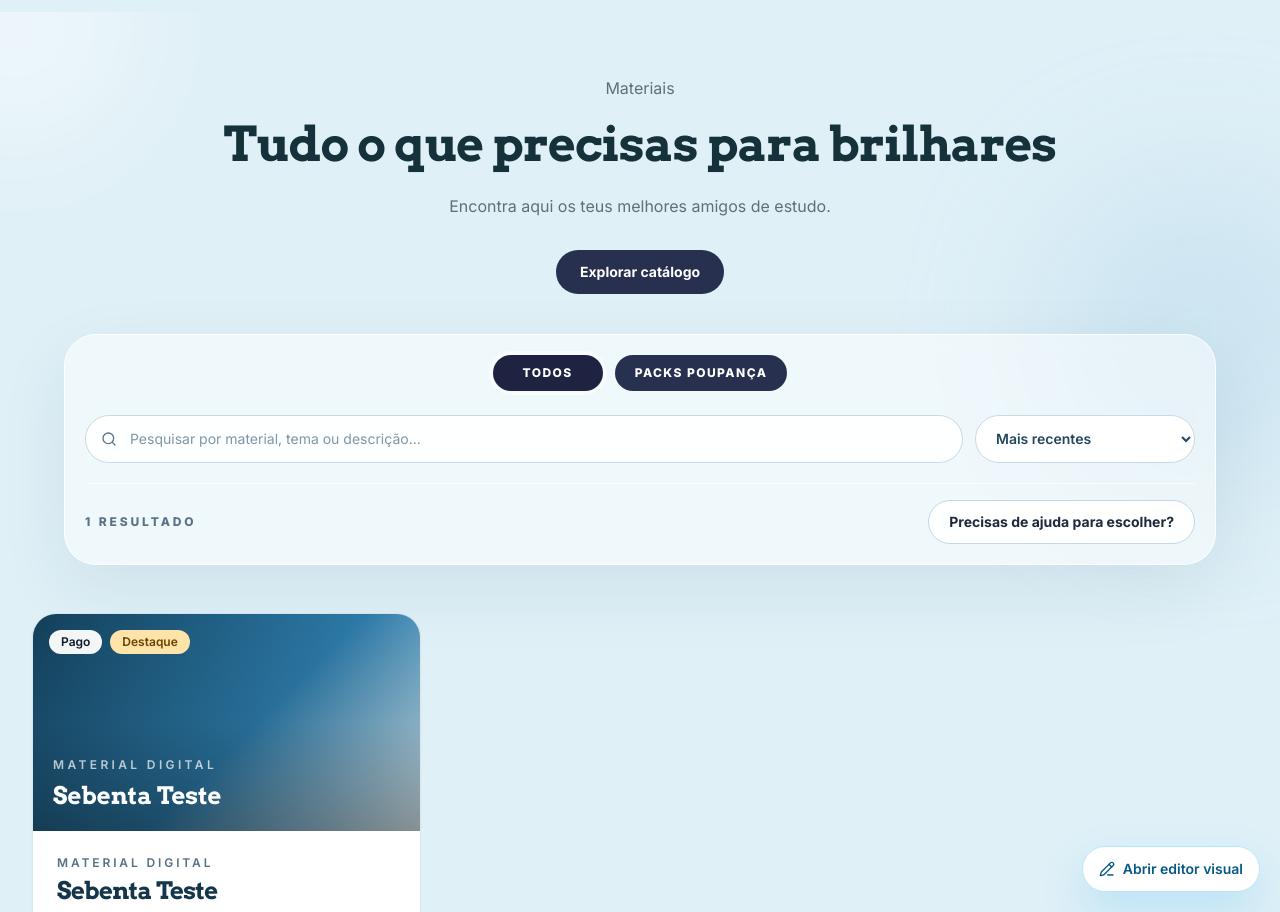
Products › publishes the freshly saved materials draft instead of a stale draft
Step 1. Click the button "Abrir editor visual" → {"x": 1171, "y": 869}, box [1082,846,1260,892]
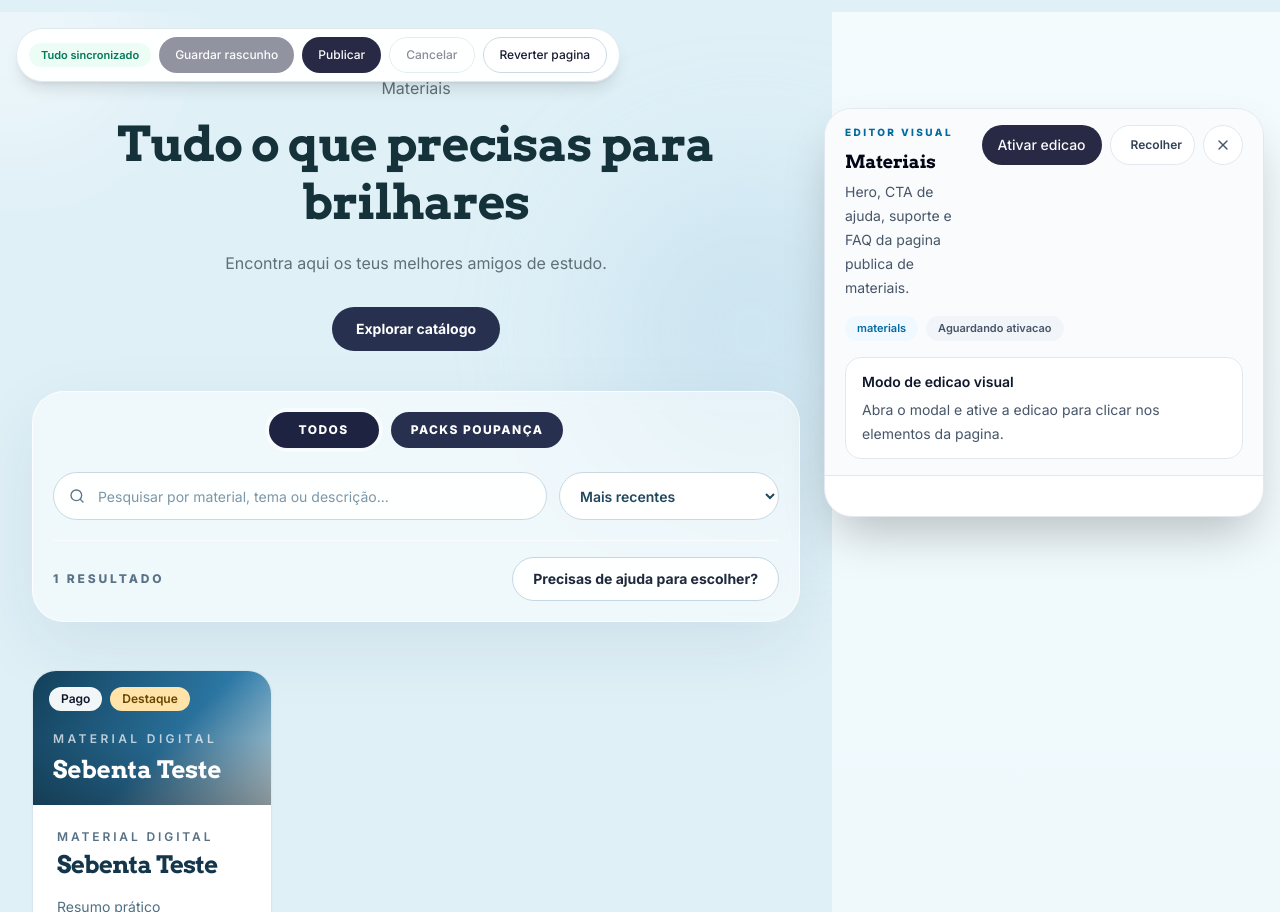
Step 2. Click the button "Ativar edicao" → {"x": 1042, "y": 145}, box [982,125,1102,165]
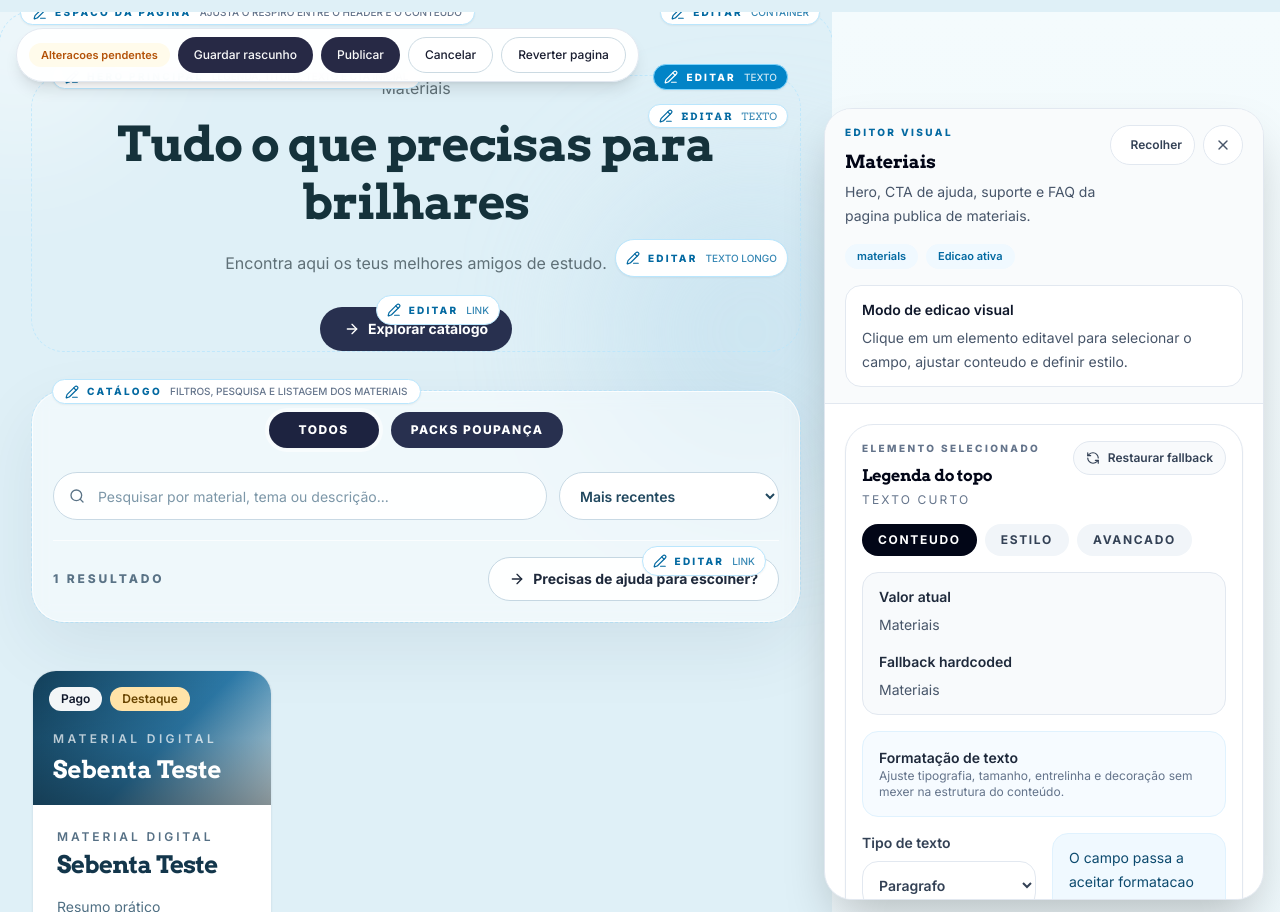
Step 3. Click the button "Editar Texto Tudo o que precisas para brilhares" → {"x": 416, "y": 174}, box [32,116,800,231]
(page scrolled)
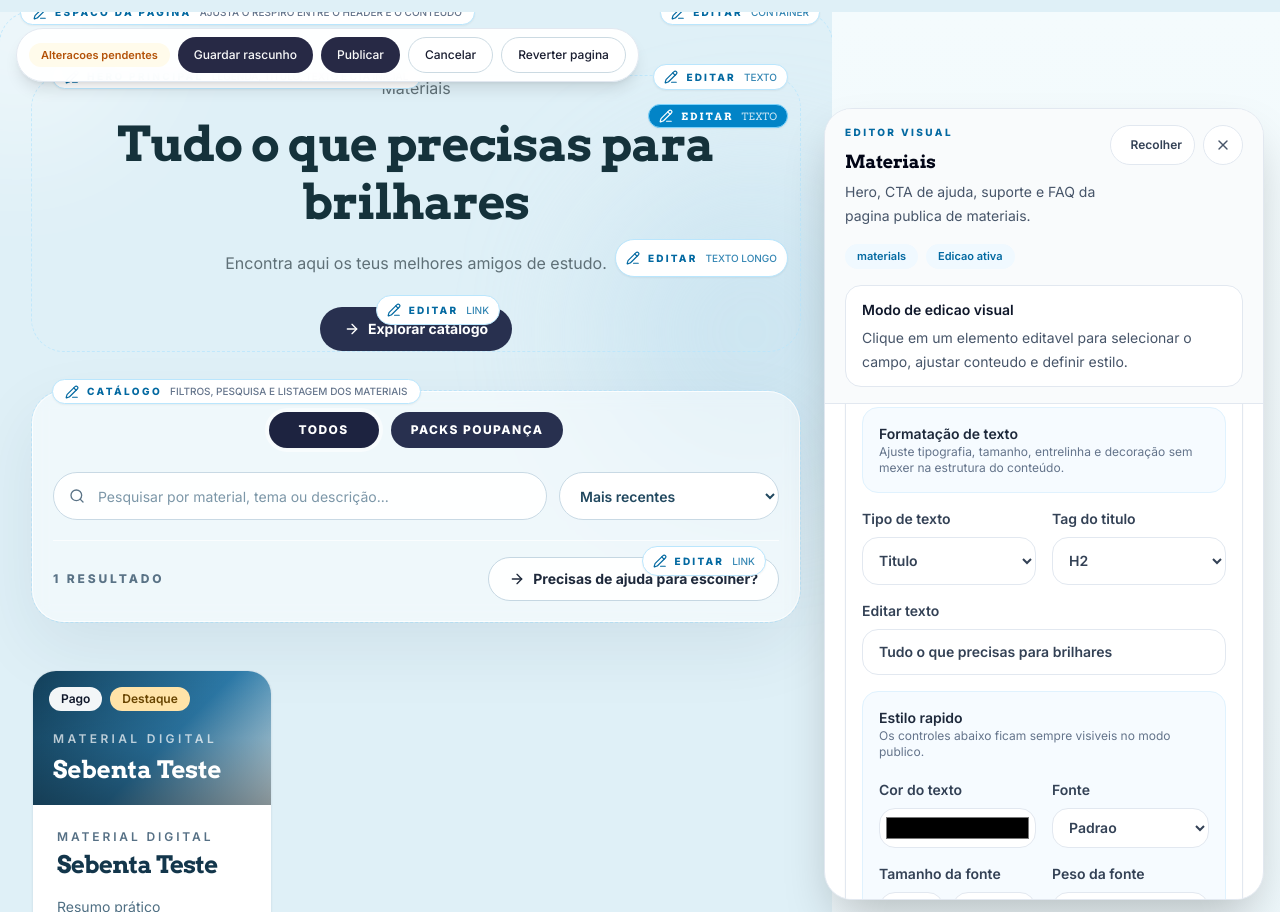
Step 4. Replace the text in the field showing "Tudo o que precisas para brilhares" with "Tudo o que precisas para brilhares | Teste Persistencia" → {"x": 1044, "y": 652}, box [862,628,1226,674]
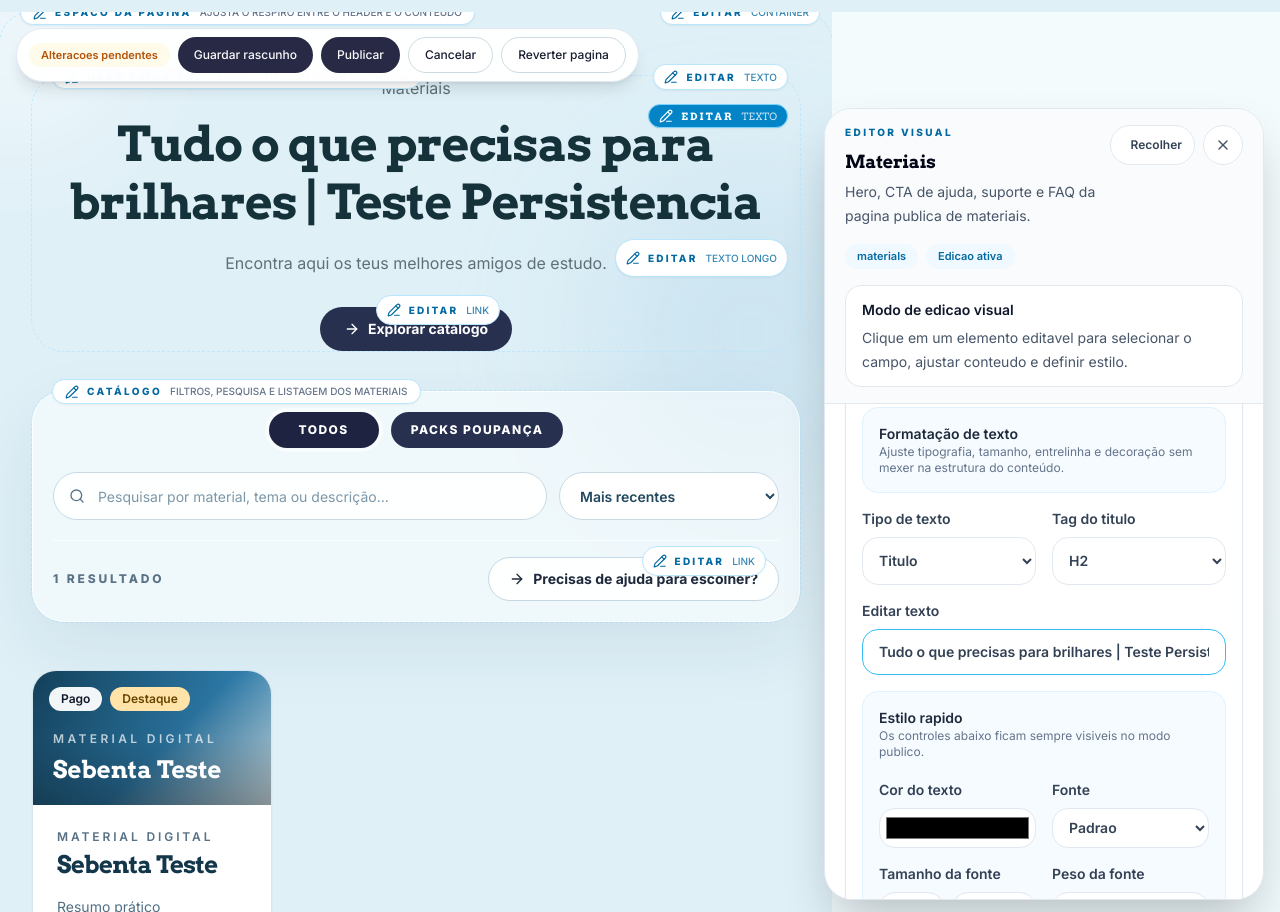
Step 5. Click the button "Publicar" → {"x": 360, "y": 55}, box [321,37,400,73]
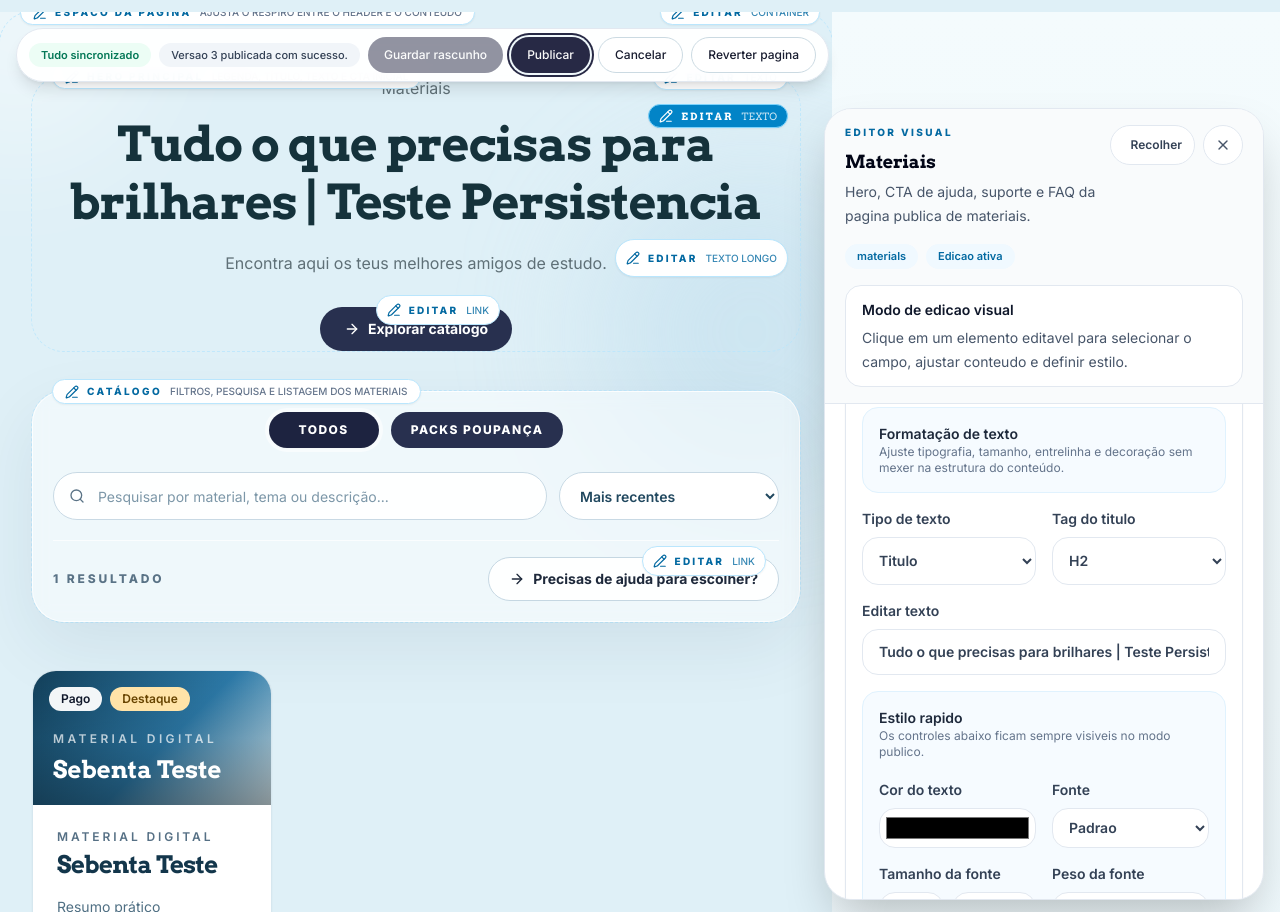
Expected: the button "Tudo o que precisas para brilhares | Teste Persistencia" is shown, [32,116,800,231]
Expected: the text "Versao 3 publicada com sucesso." is shown, [159,43,360,67]
